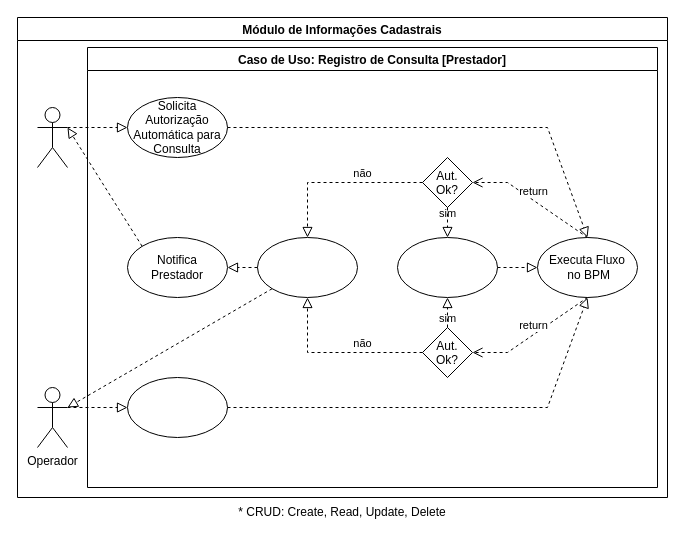
This 685x545 diagram has some shape labels left out. The centre of each missing label's shape, as x and y in pixels:
"Aciona/Notifica Operador" belongs at (x=307, y=267).
"Analisa Caso/Autorização Manual" belongs at (x=177, y=407).
"Prestador" belongs at (x=52, y=137).
"Registra Consulta" belongs at (x=447, y=267).
